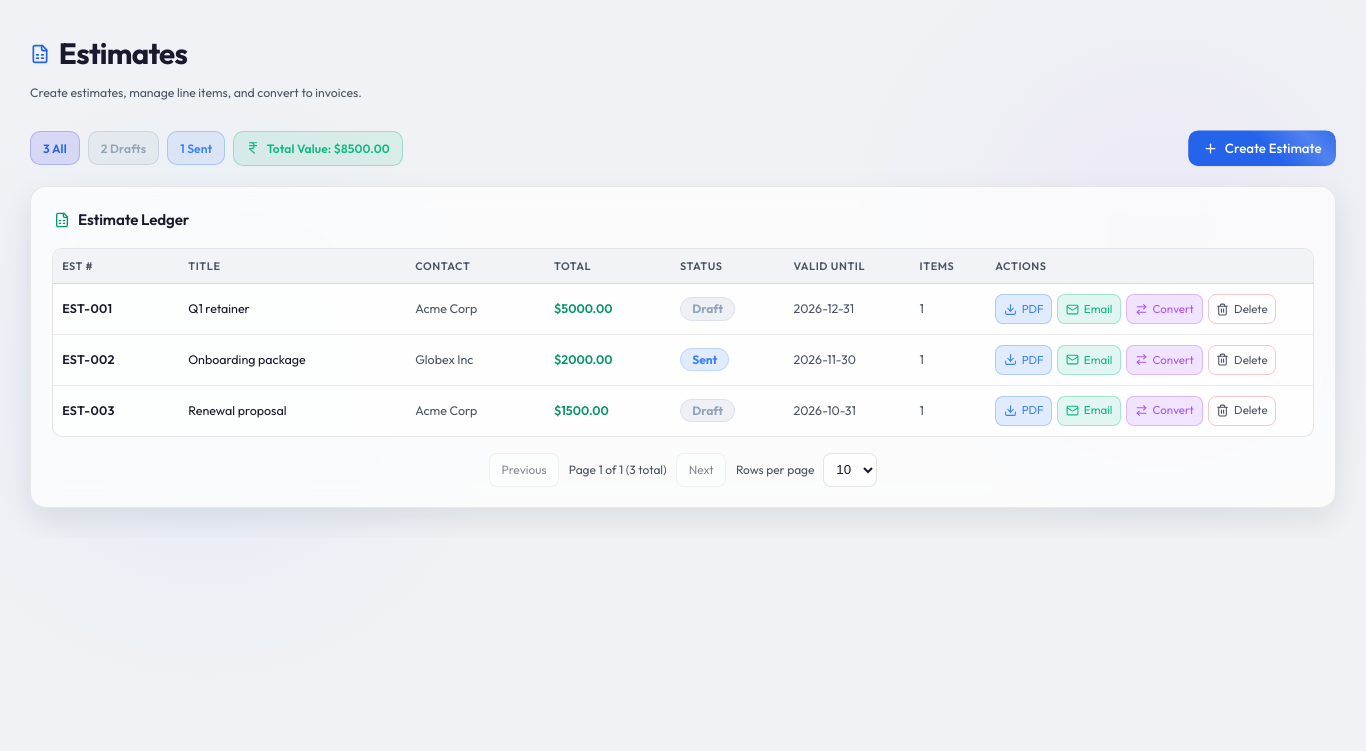
Test: <Estimates /> — page surface › renders the heading + Create Estimate action + Estimate Ledger
Expected: the heading "Estimates" is shown, [30,35,187,72]
Expected: the field labelled "Estimate title" is not shown
Click the button "Create Estimate" at [1262, 148], box [1188,130,1336,166]
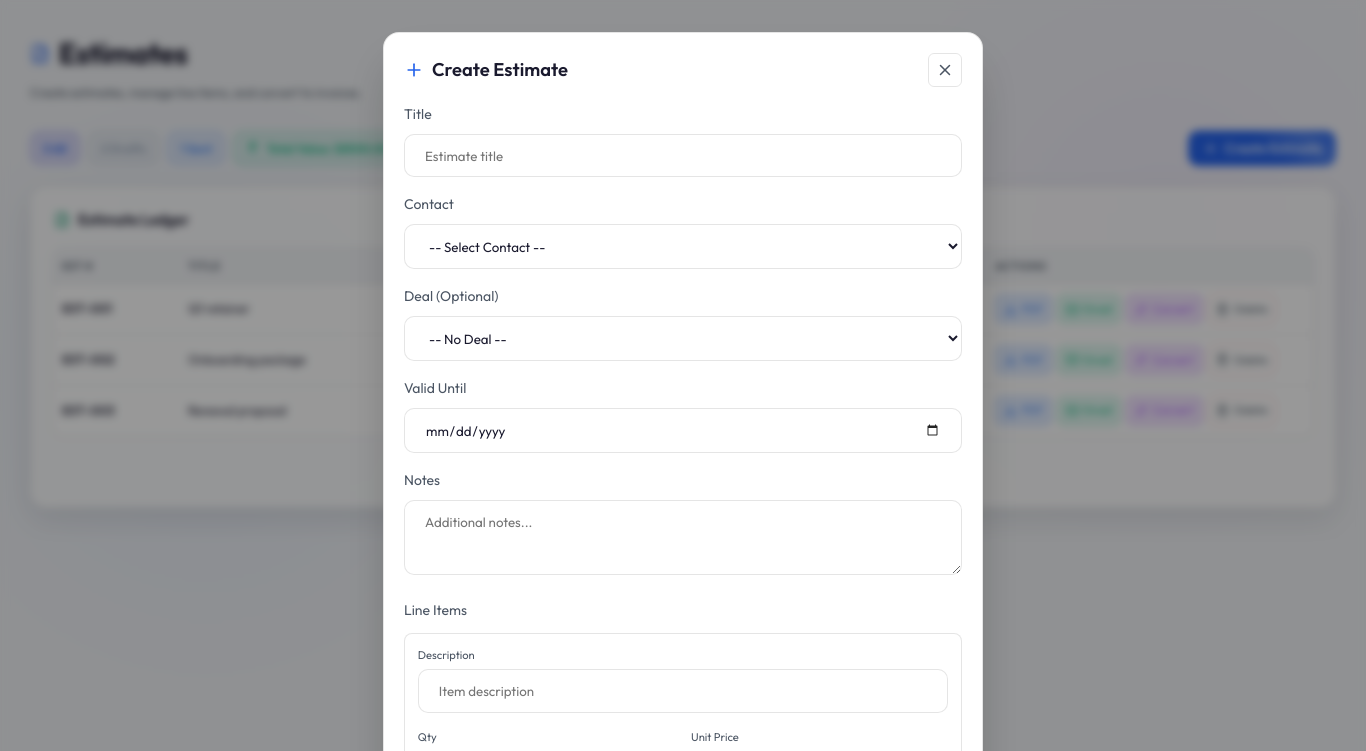
Expected: the field labelled "Estimate title" is shown, [404,134,962,177]
